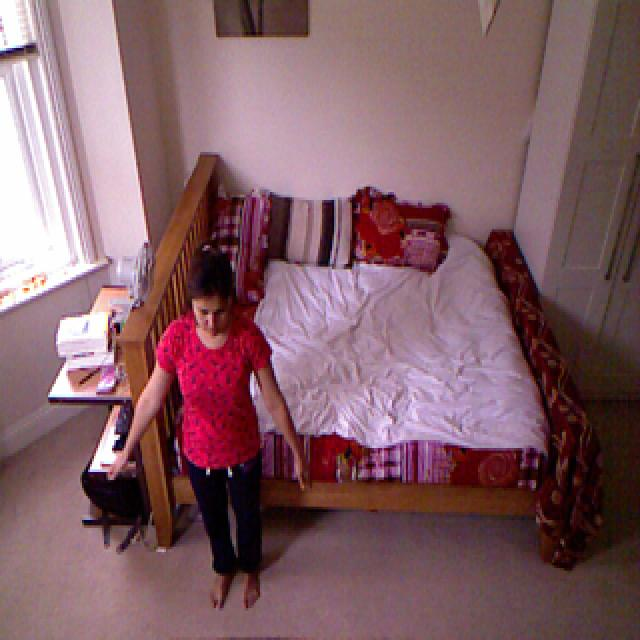standing: (156, 236, 295, 613)
